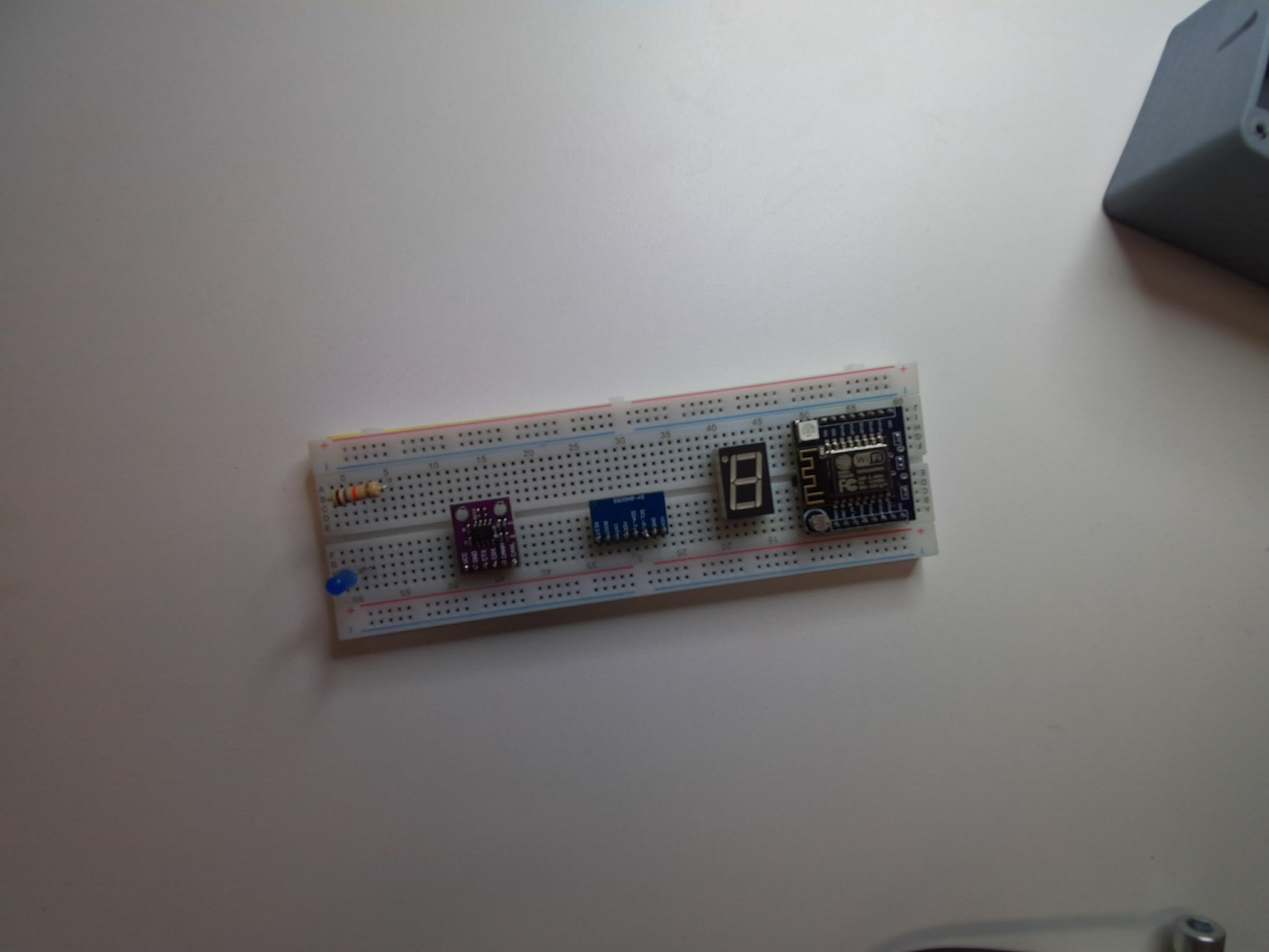base: (300, 355, 935, 660)
blue-board: (587, 489, 669, 549)
blue-led: (325, 565, 357, 596)
digit-board: (708, 439, 777, 530)
esp: (788, 398, 918, 537)
purple-board: (448, 491, 525, 584)
resistor-big: (339, 479, 382, 505)
